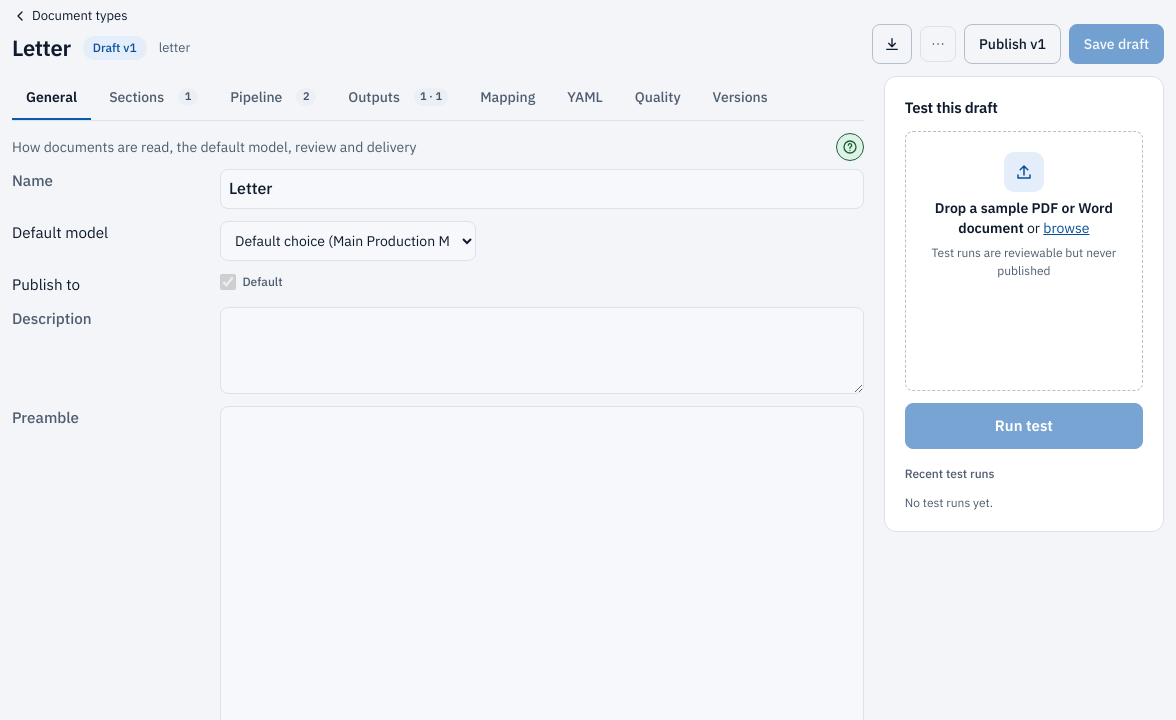
TemplateEditor header › flags unsaved changes and explains why Publish is disabled
In the field labelled "Name": (542, 189) [220,169,864,209], type "!"
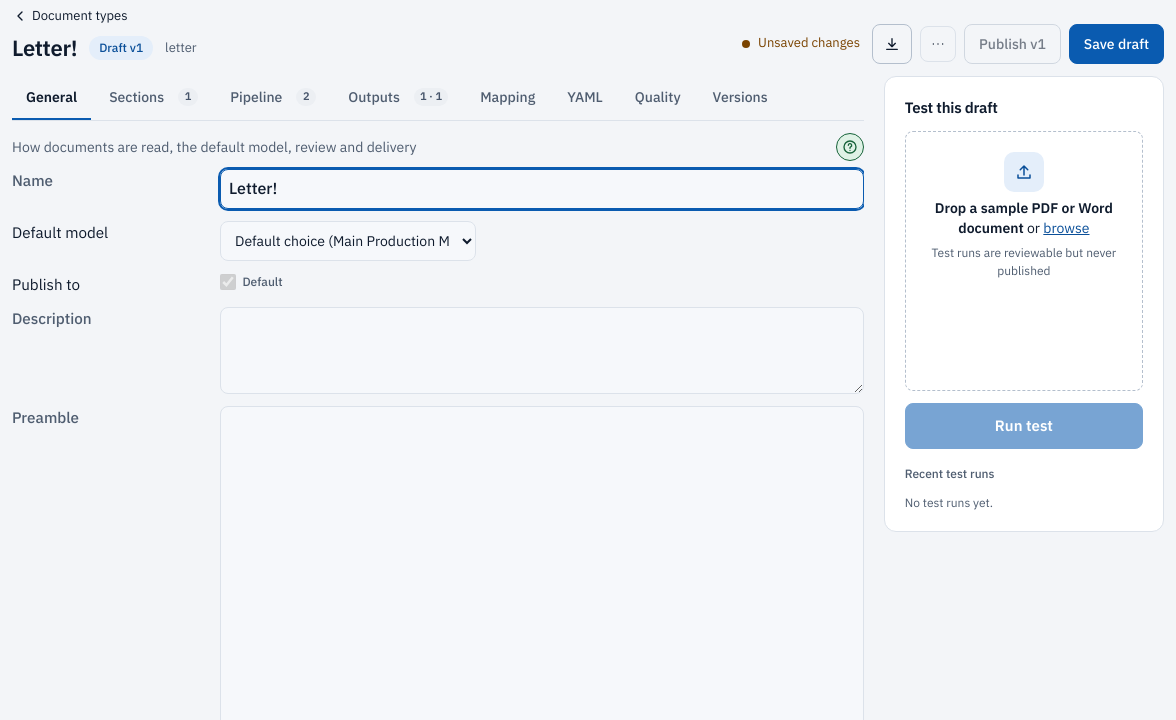
Now the text "Unsaved changes" is shown, box [742,34,860,53]
Now the button "Publish v1" is disabled, box [964,24,1061,64]
Click the button "Save draft": (1116, 44) [1069,24,1164,64]
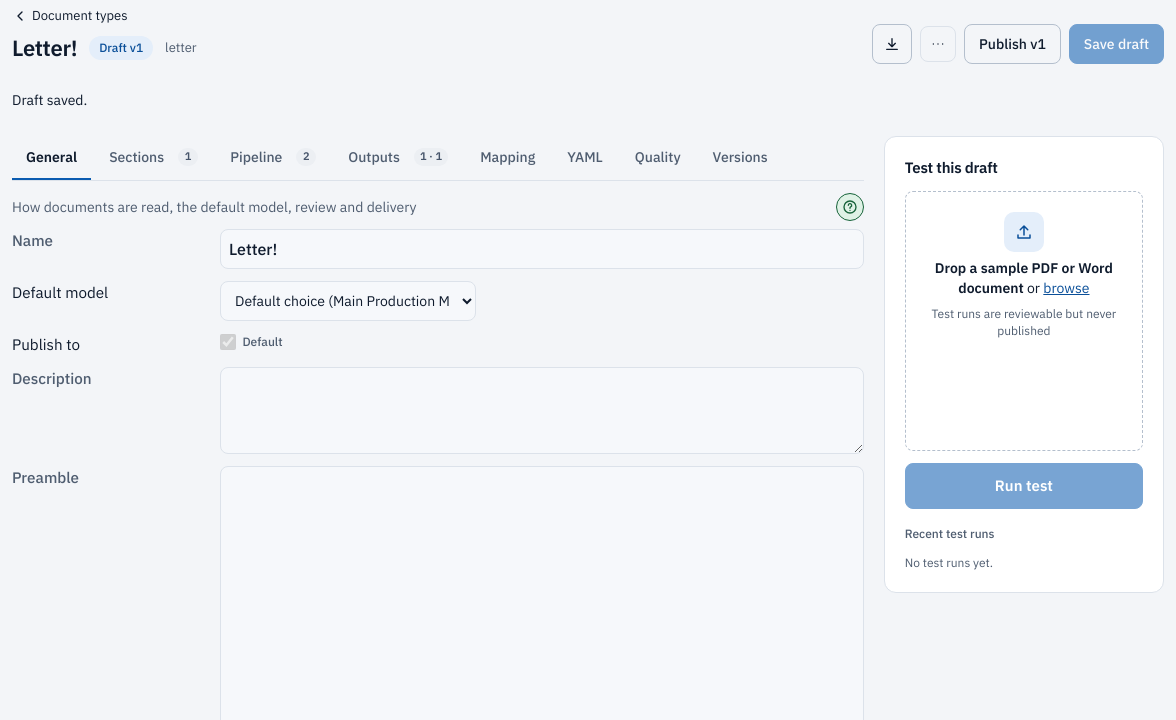
Now the text "Unsaved changes" is gone
